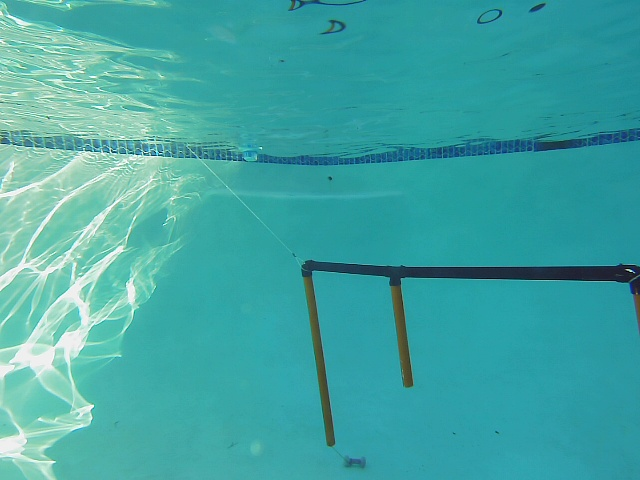Gate: (301, 270, 338, 446), (389, 281, 414, 389)
